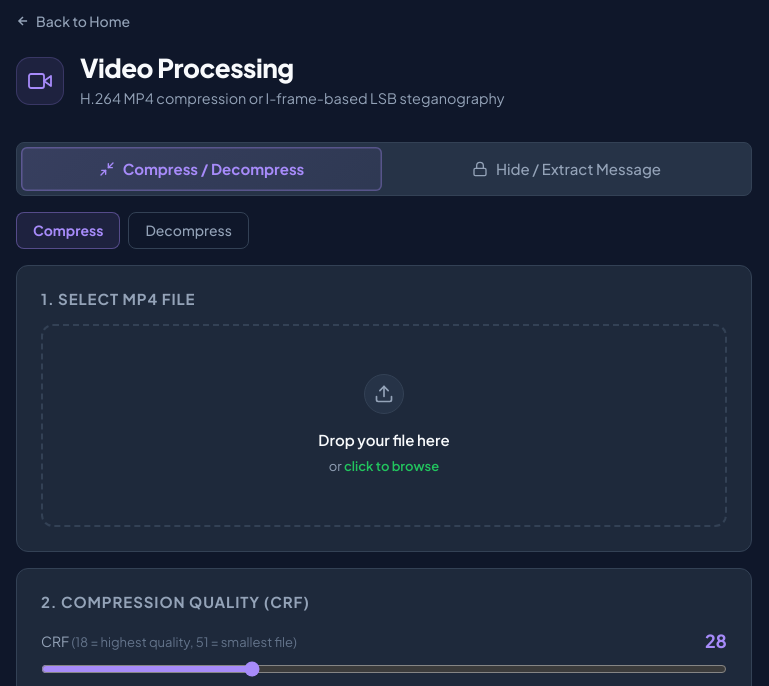
Test case: VideoPage › shows I-frame steganography hint in stego mode
Click the tab "Hide / Extract Message" at (566, 169), box [386, 147, 747, 191]
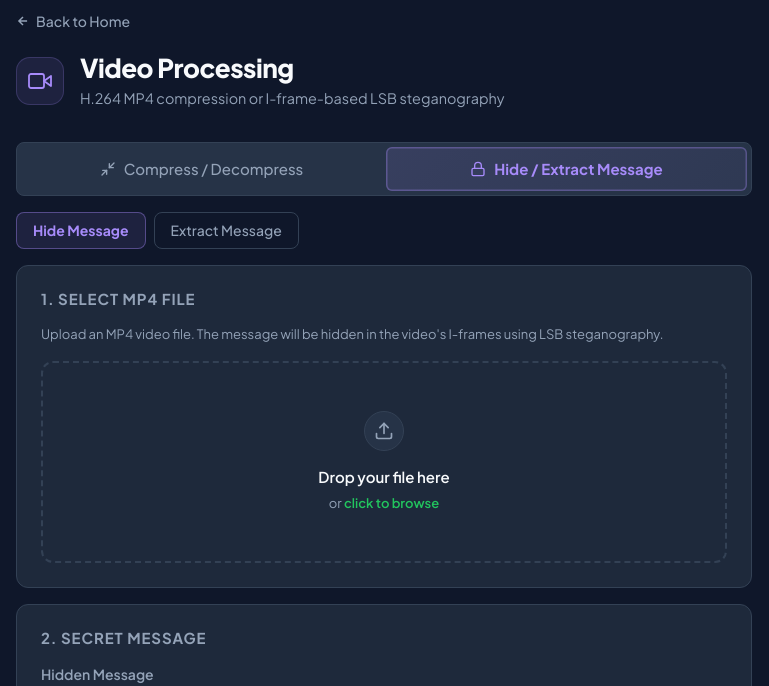
Check: the text "I-frames" is shown, box [41, 326, 664, 342]
